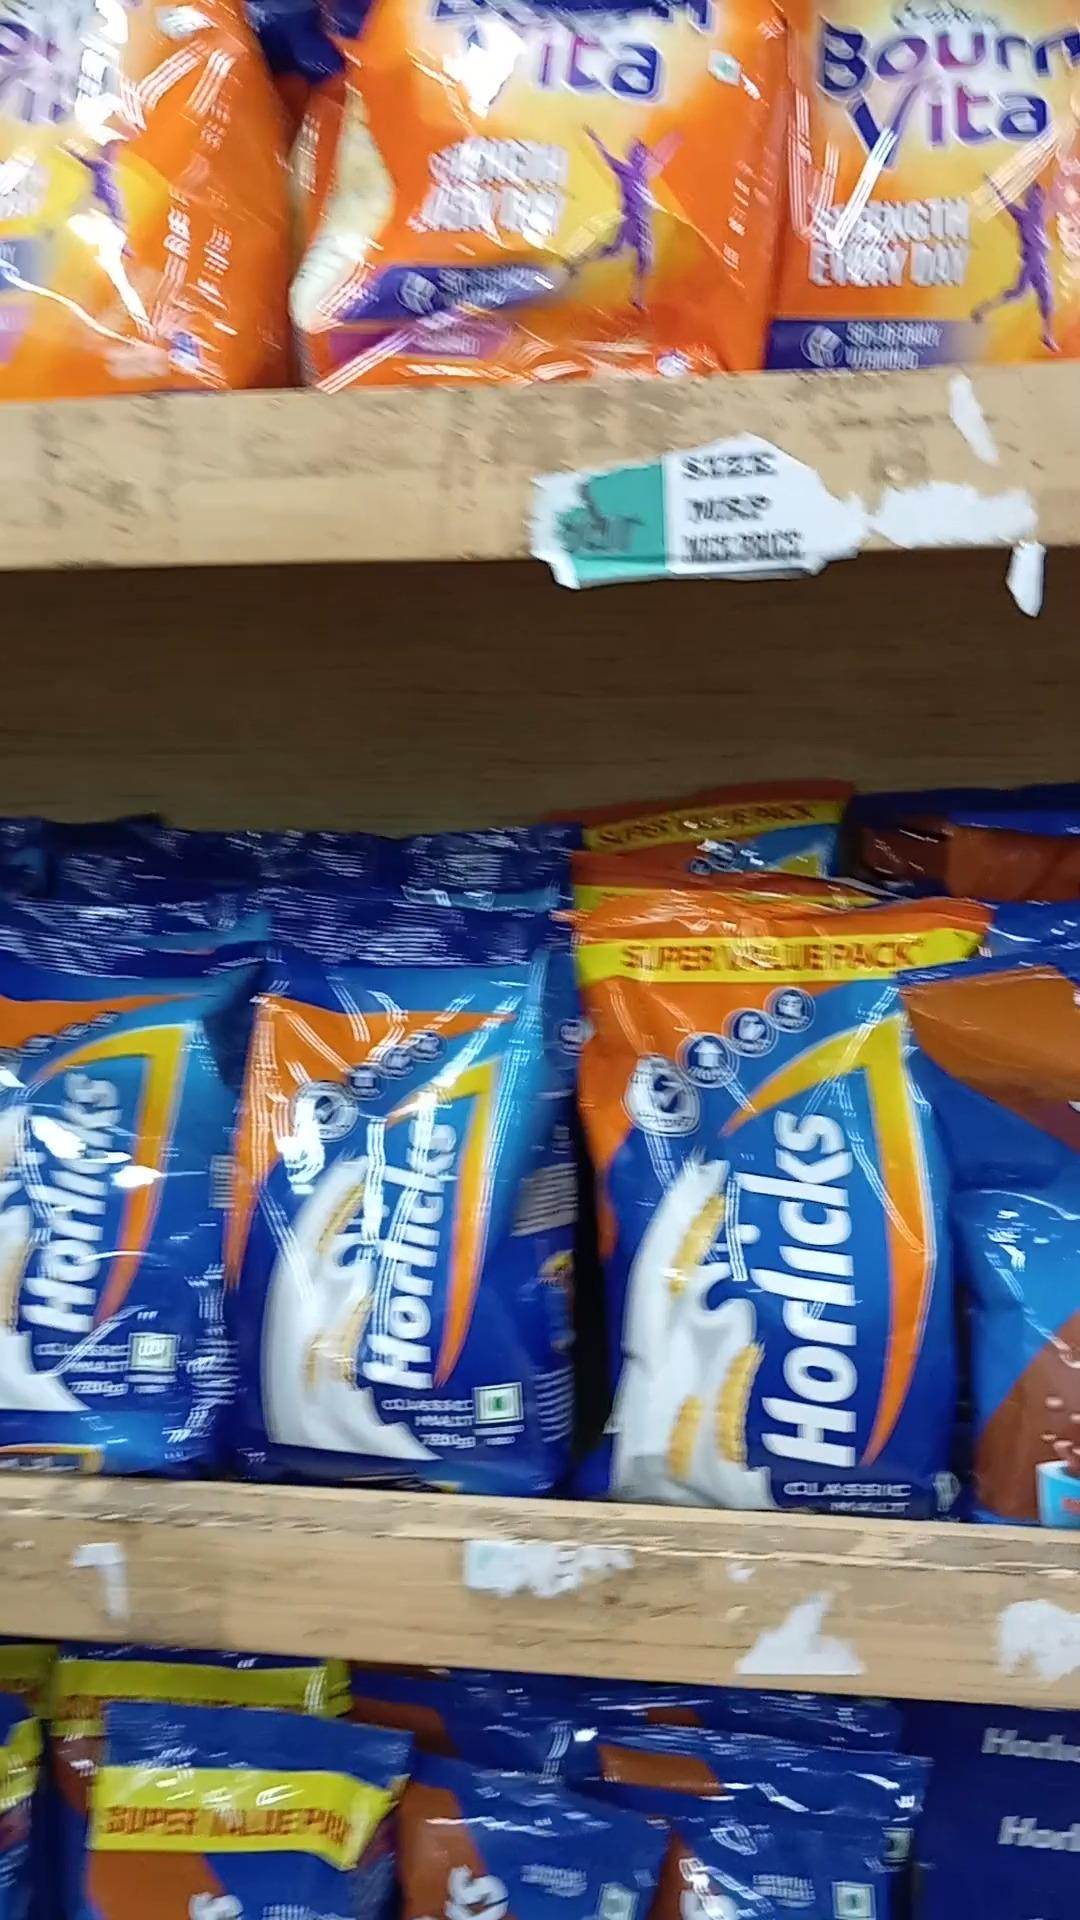HORLICK_CLASSIC_MALT_750_G_POUCH: (245, 940, 546, 1482), (0, 944, 228, 1465)
